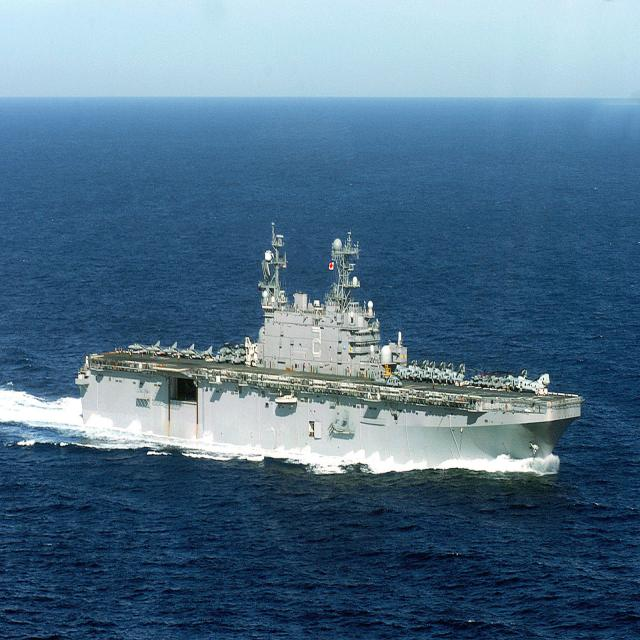navalvessels: (71, 227, 594, 471)
